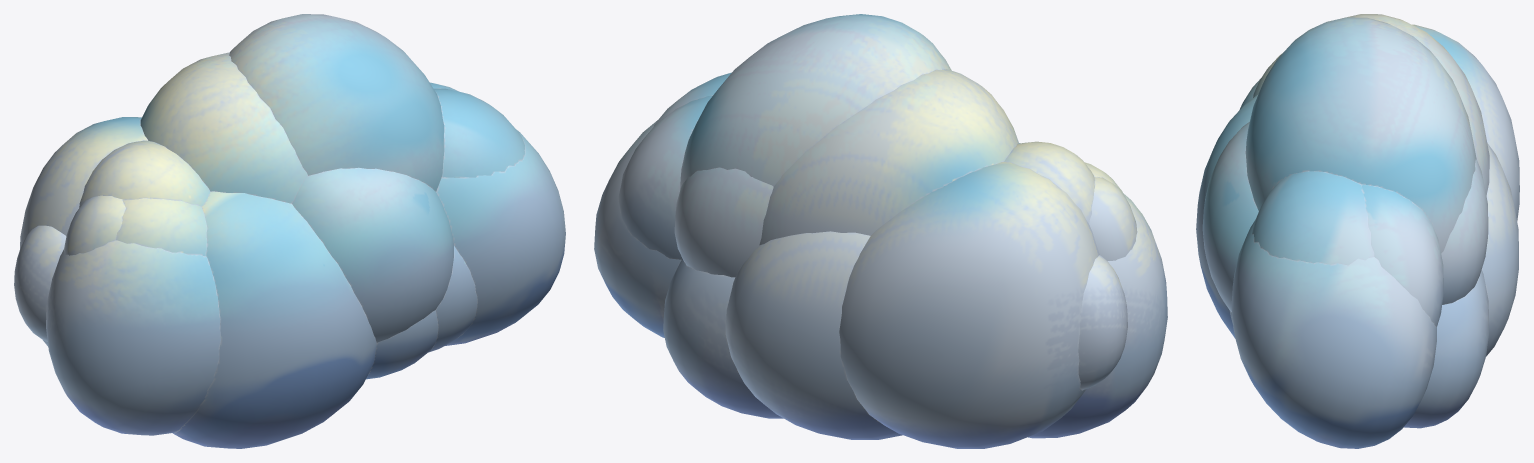
Rendered from Cloud_Blue.fbx.
3 views of the same model, side by side, from view 1: azimuth 30°, elevation 25°; view 2: azimuth 150°, elevation 25°; view 3: azimuth 270°, elevation 25° (orthographic). The views are drawn at different scales.
Parts seen in each view (by area): view 1: Cube; view 2: Cube; view 3: Cube.
Boxes of the visible parts, bbox=[...] form: Cube: bbox=[14, 14, 565, 448]; Cube: bbox=[594, 14, 1167, 448]; Cube: bbox=[1196, 14, 1519, 448].
Size of the model in its own units: 865 by 482 by 626.
1 material, 1 textured.
